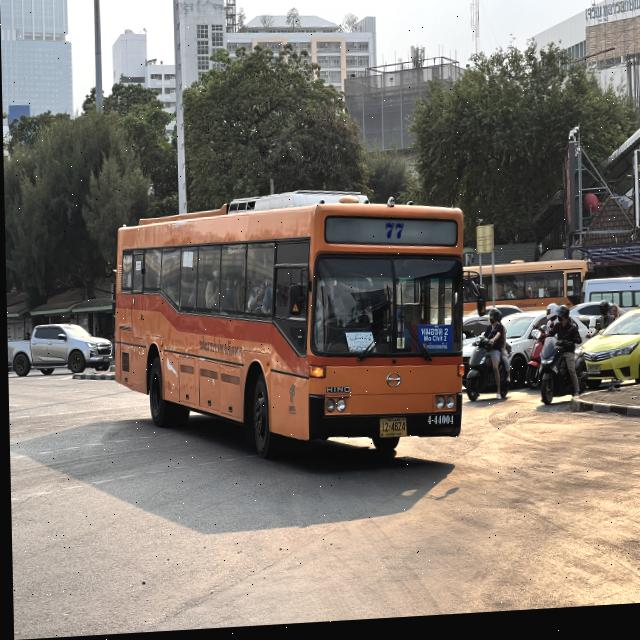BMTA-bus: (107, 189, 468, 476), (464, 265, 590, 323)
Bus-Line-Number: (373, 219, 412, 252)
Destination-Sign-Normal: (416, 330, 452, 359)
